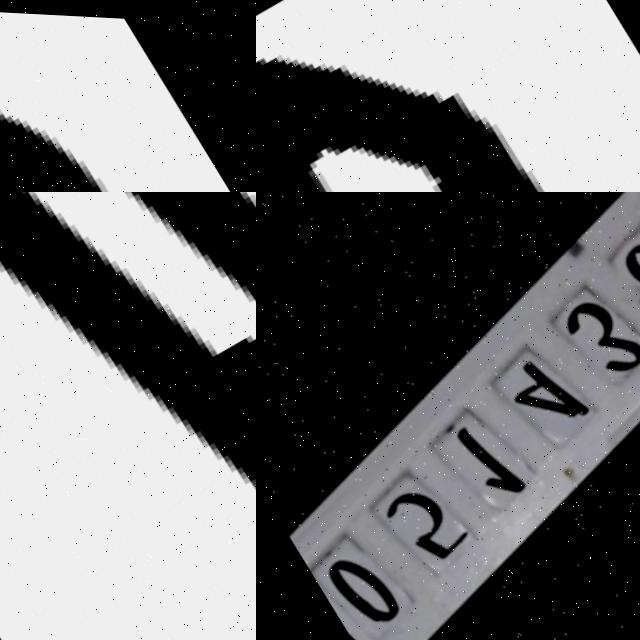0: (305, 524, 423, 640)
1: (422, 397, 548, 536)
3: (542, 270, 640, 405)
4: (484, 333, 606, 466)
5: (362, 457, 486, 593)
6: (256, 0, 640, 192), (601, 207, 640, 341)
S: (0, 0, 256, 192)
